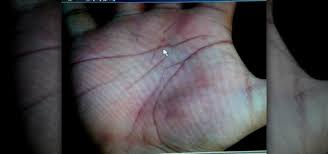palm: (91, 20, 232, 142)
